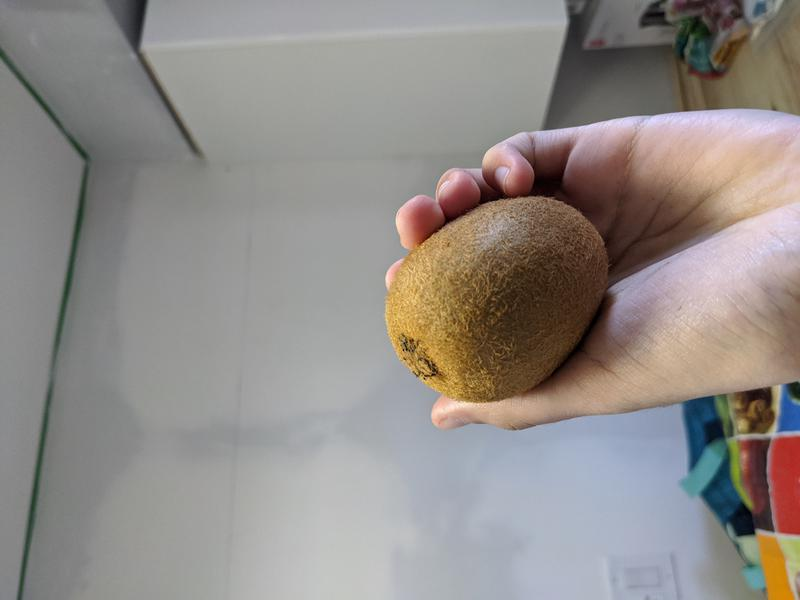kiwi: (385, 196, 611, 404)
